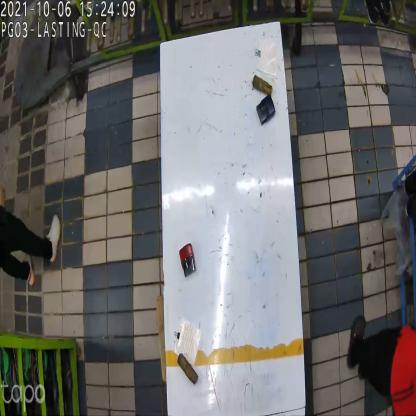stamp: (254, 93, 274, 128), (180, 246, 198, 277)
